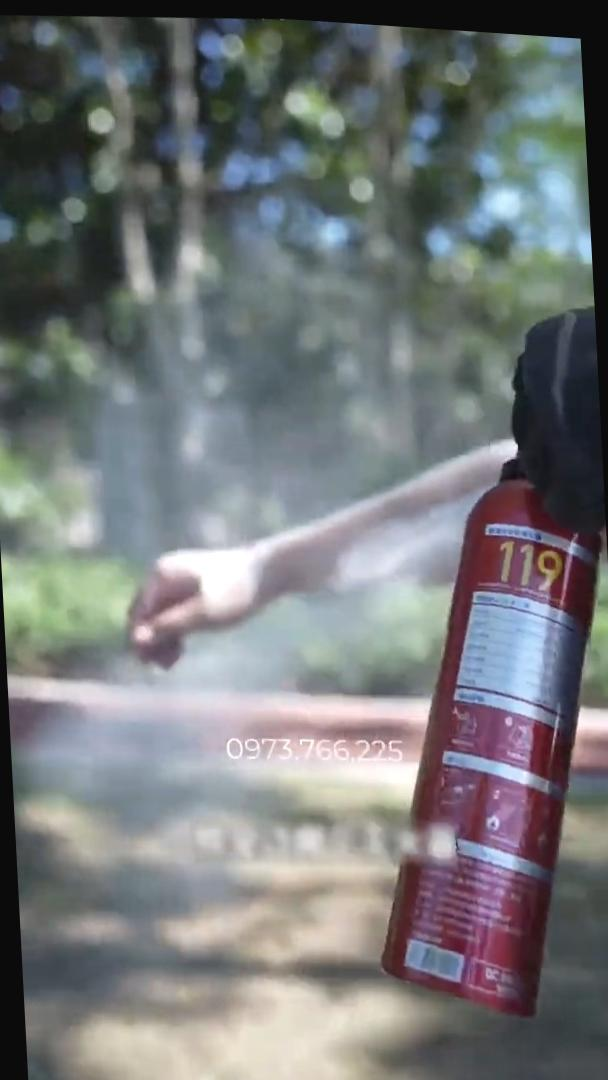FireExtinguisher: (339, 423, 608, 1042)
